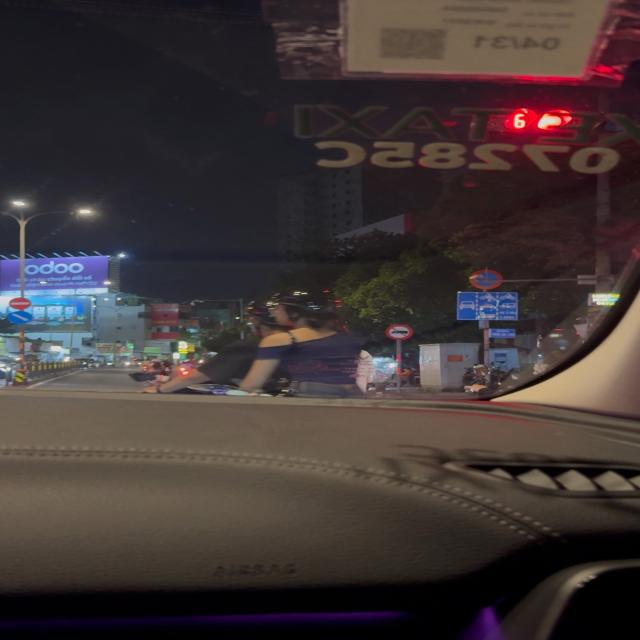Bien bao cam do xe: (466, 268, 505, 292)
Bien bao cam xe so-mi ro-mooc: (384, 322, 416, 342)
